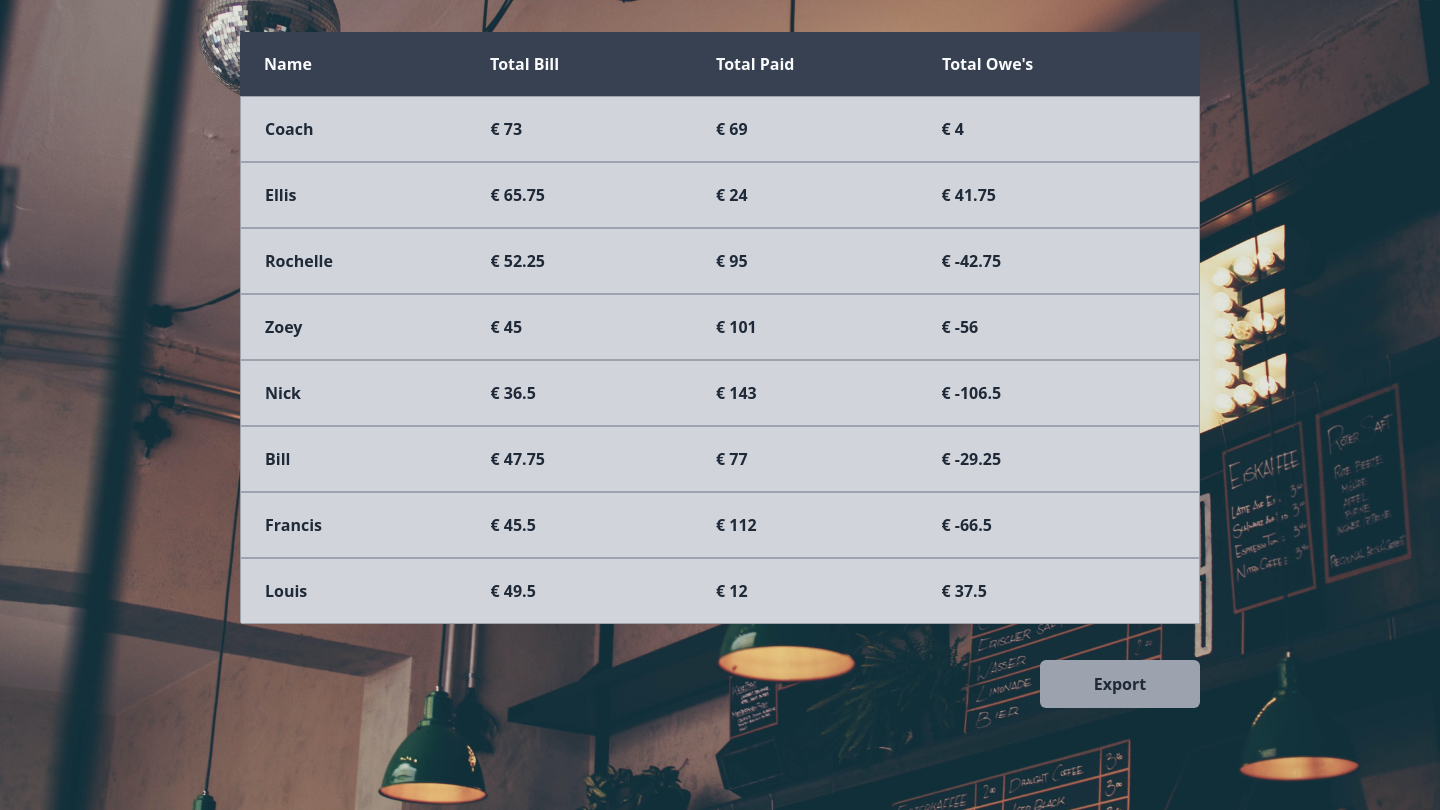
Test: Home.vue › On Export click textarea should be displayed with JSON string data
The width and height of the screenshot is (1440, 810).
Click the button with id "export-button" at (1120, 684), box [1040,660,1200,708]
(page scrolled)
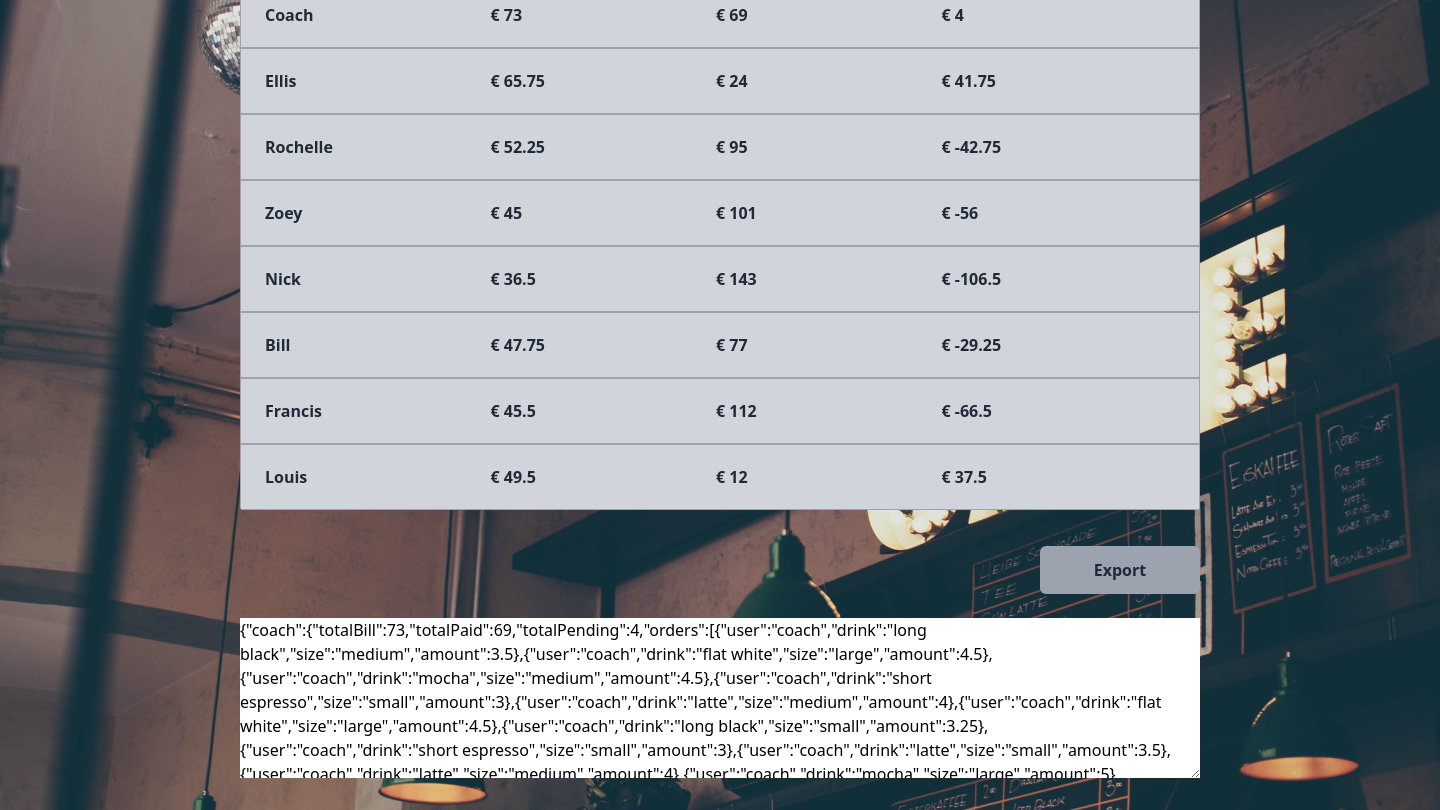
Result: the text box with id "export-content" is shown at [240,618,1200,778]
